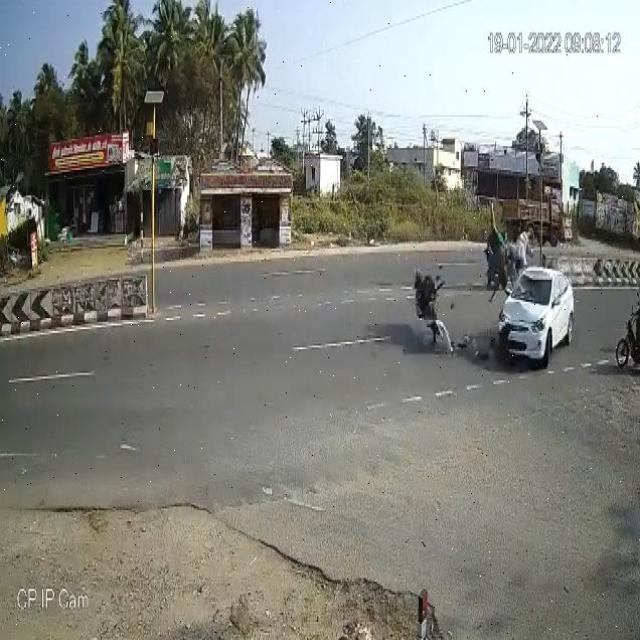accident: (485, 242, 579, 374), (468, 214, 534, 294), (411, 259, 461, 349)
